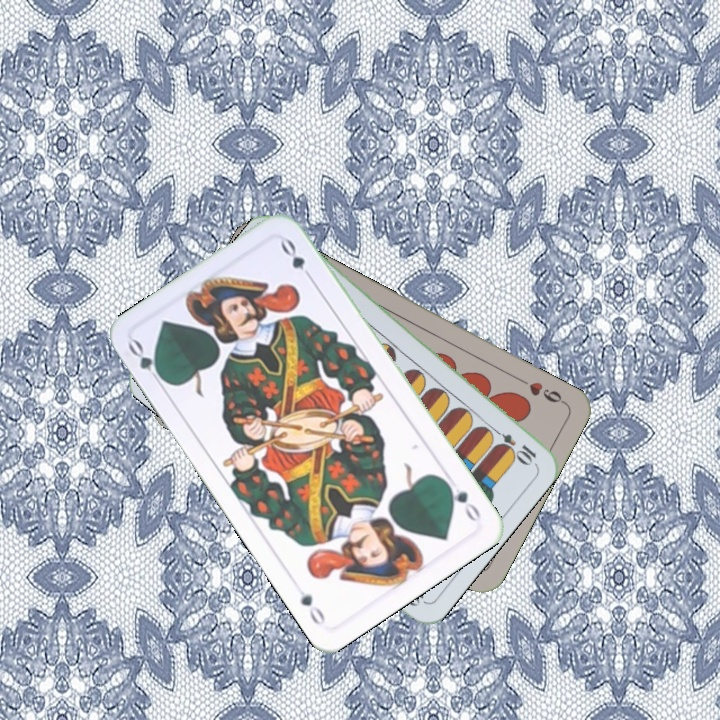E10: (486, 423, 539, 466)
GO: (124, 335, 169, 389), (440, 476, 484, 525)
H9: (513, 373, 568, 407)
